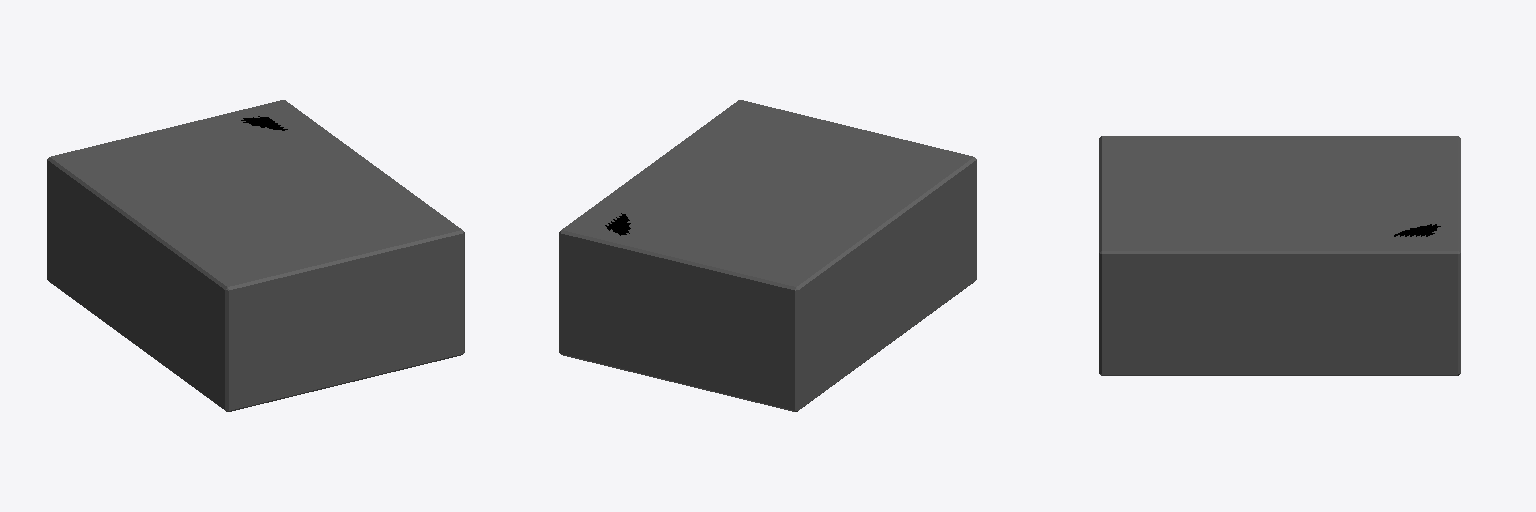
The picture shows the model from 3 angles: view 1: azimuth 30°, elevation 25°; view 2: azimuth 150°, elevation 25°; view 3: azimuth 270°, elevation 25°; orthographic projection.
Parts seen in each view (by area): view 1: Input_prediction_mesh; view 2: Input_prediction_mesh; view 3: Input_prediction_mesh.
Boxes of the visible parts, x1,y1,x2,y2 form: Input_prediction_mesh: [47, 100, 464, 411]; Input_prediction_mesh: [559, 100, 976, 411]; Input_prediction_mesh: [1099, 136, 1460, 375].
Bounding box in the file's own units: 4.16 × 2.08 × 5.44.